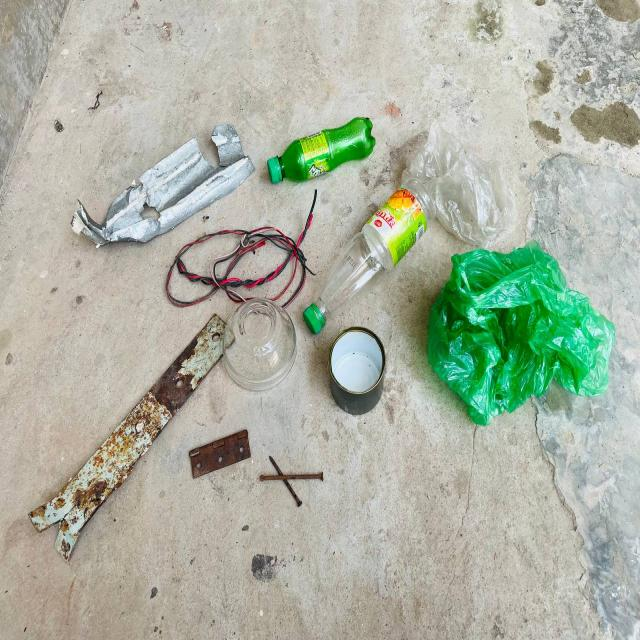Cable: (156, 208, 326, 304)
Metal: (7, 314, 230, 565), (69, 117, 259, 239), (191, 387, 341, 536)
Plastics: (309, 185, 446, 347), (268, 104, 384, 188)
can: (324, 312, 404, 426)
